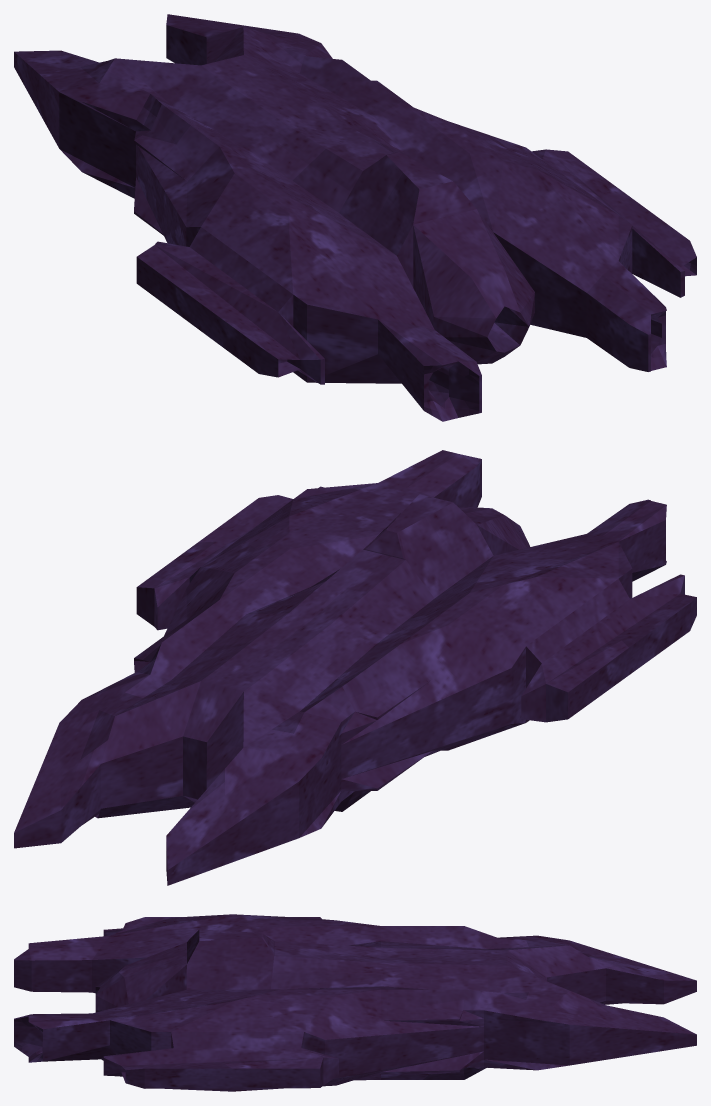
The model's file is SpaceShipConcept.fbx.
3 views of the same model, one above another, from view 1: azimuth 30°, elevation 25°; view 2: azimuth 150°, elevation 25°; view 3: azimuth 270°, elevation 25° (orthographic). The views are drawn at different scales.
Visible parts, largest first — view 1: Ship; view 2: Ship; view 3: Ship.
Part boxes in pixels (x1=…): Ship: x1=14, y1=14, x2=696, y2=421; Ship: x1=14, y1=450, x2=696, y2=885; Ship: x1=14, y1=914, x2=696, y2=1091.
Size of the model in its own units: 2879 by 1000 by 5483.
Materials: 1 (1 with a texture image).
